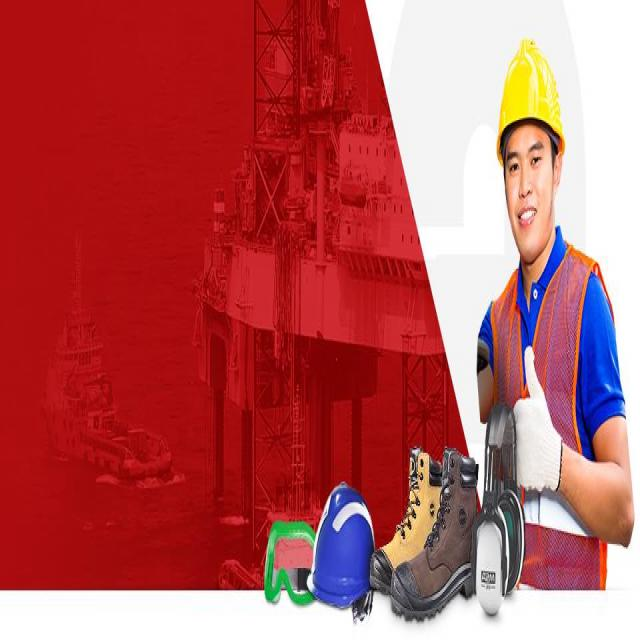Reflective-Jacket: (479, 242, 612, 596)
Safety-Helmet: (495, 32, 568, 154)
